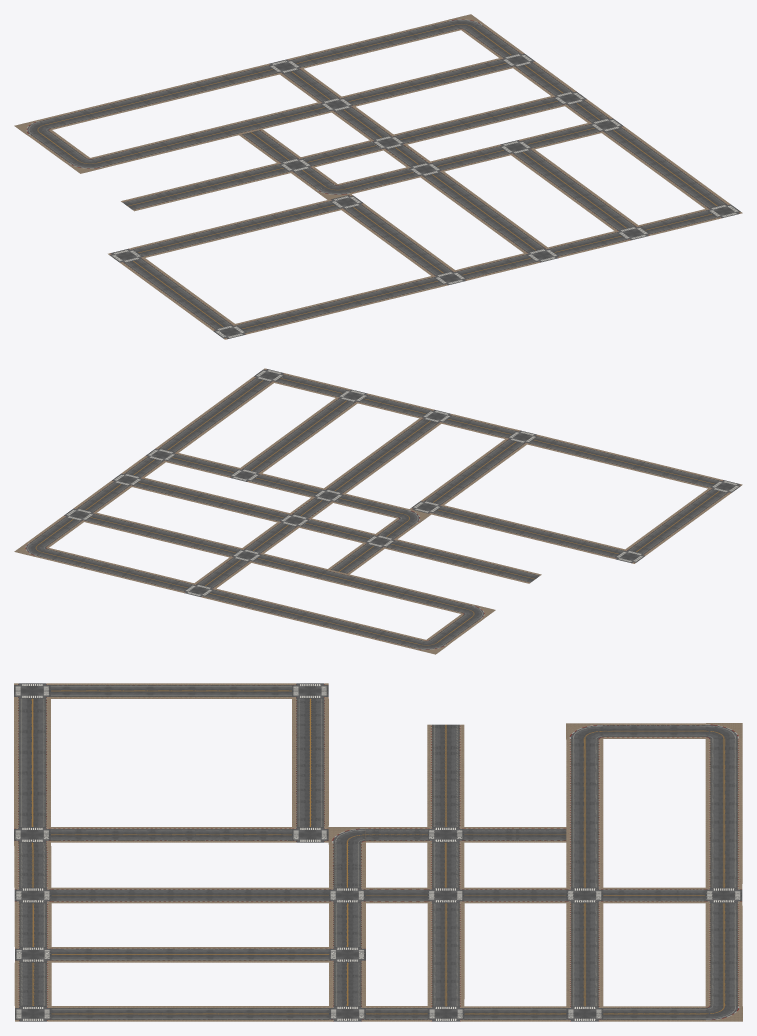
Rendered from Roads.fbx.
3 renders of one model, top to bottom at view 1: azimuth 30°, elevation 25°; view 2: azimuth 150°, elevation 25°; view 3: azimuth 270°, elevation 25°, orthographic. The views are drawn at different scales.
Visible parts, largest first — view 1: roads5; view 2: roads5; view 3: roads5.
Boxes of the visible parts, <box> form: roads5: <box>14,14,742,339</box>; roads5: <box>14,368,742,654</box>; roads5: <box>14,683,742,1021</box>.
Bounding box in the file's own units: 39530 × 2.23 × 35962.
3 materials, 3 textured.
